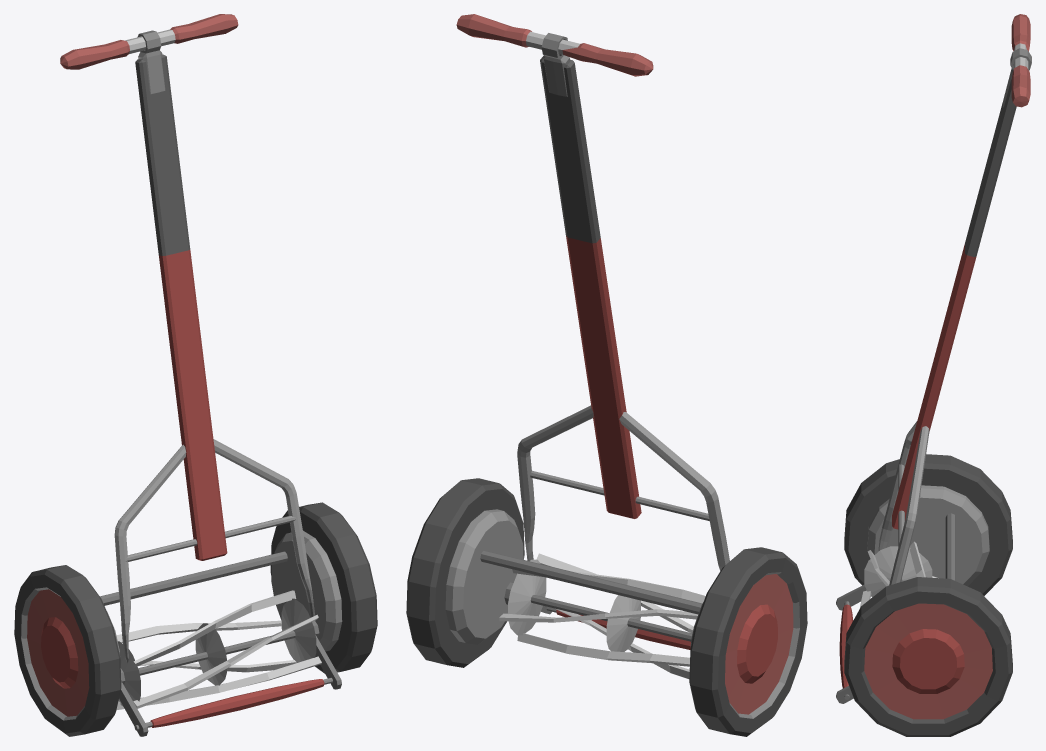
File: LawnMower_S.gltf
The picture shows the model from 3 angles, left to right: view 1: azimuth 30°, elevation 25°; view 2: azimuth 150°, elevation 25°; view 3: azimuth 270°, elevation 25°; orthographic projection. The views are drawn at different scales.
Visible parts, largest first — view 1: body, wheel_0; view 2: body, wheel_0; view 3: body.
Boxes of the visible parts, box(x1,y1,x2,y2) form: body: box(14, 14, 377, 736); wheel_0: box(271, 543, 325, 620); body: box(406, 14, 807, 736); wheel_0: box(463, 544, 523, 638); body: box(836, 14, 1031, 736).
Bounding box in the file's own units: 0.8453 × 1.8 × 0.5154.
Materials: 1 (1 with a texture image).
